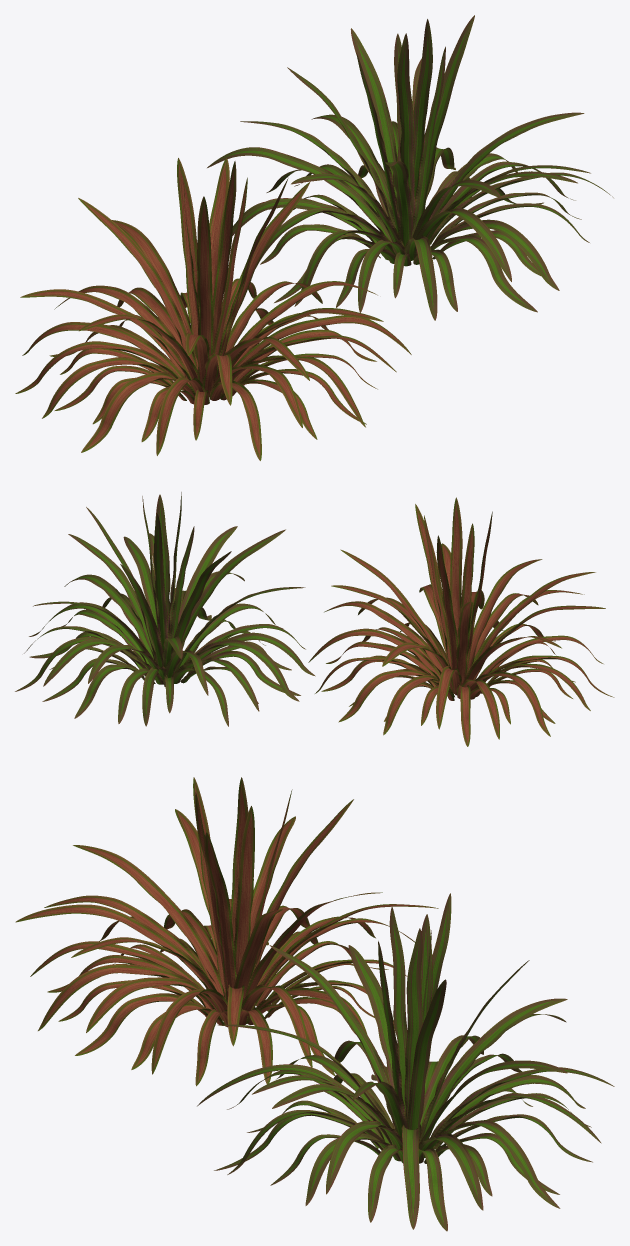
Rendered from leafyplant.obj.
The picture shows the model from 3 angles, top to bottom: view 1: azimuth 30°, elevation 25°; view 2: azimuth 150°, elevation 25°; view 3: azimuth 270°, elevation 25°; orthographic projection. The views are drawn at different scales.
Visible parts, largest first — view 1: Phormium_tenax_A003, Phormium_tenax_A001.001; view 2: Phormium_tenax_A001.001, Phormium_tenax_A003; view 3: Phormium_tenax_A001.001, Phormium_tenax_A003.
Boxes of the visible parts, x1=… form: Phormium_tenax_A003: x1=15, y1=158, x2=411, y2=460; Phormium_tenax_A001.001: x1=207, y1=15, x2=613, y2=320; Phormium_tenax_A001.001: x1=15, y1=492, x2=315, y2=726; Phormium_tenax_A003: x1=308, y1=497, x2=614, y2=746; Phormium_tenax_A001.001: x1=197, y1=893, x2=614, y2=1231; Phormium_tenax_A003: x1=15, y1=777, x2=438, y2=1086.
Size of the model in its own units: 21.41 by 7.83 by 17.06.
